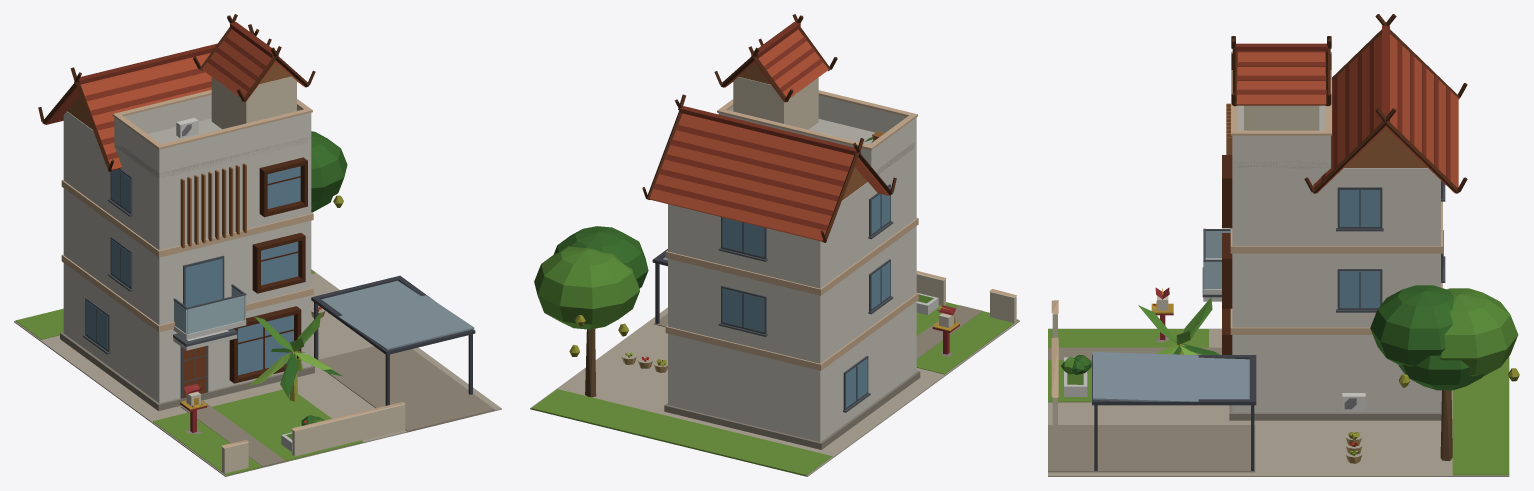
The model's file is house12_2.glb.
3 views of the same model, side by side, from view 1: azimuth 30°, elevation 25°; view 2: azimuth 150°, elevation 25°; view 3: azimuth 270°, elevation 25° (orthographic). The views are drawn at different scales.
Visible parts, largest first — view 1: body; view 2: body; view 3: body.
Boxes of the visible parts, x1=… form: body: x1=14, y1=14, x2=501, y2=476; body: x1=530, y1=14, x2=1019, y2=476; body: x1=1048, y1=14, x2=1519, y2=476.
Size of the model in its own units: 12.53 by 13.91 by 16.27.
